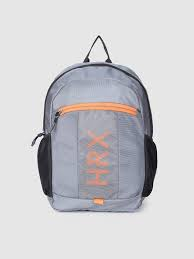backpack: (31, 35, 157, 212)
